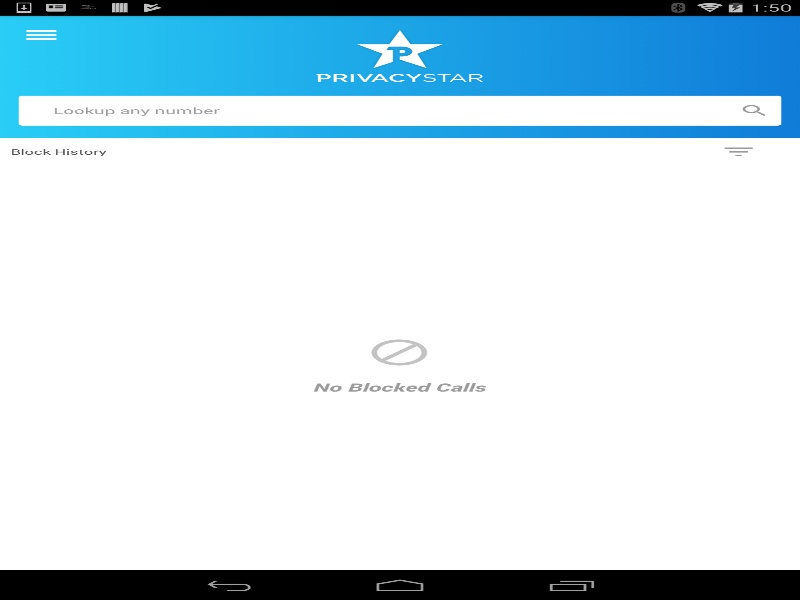Input: (53, 100, 714, 120)
